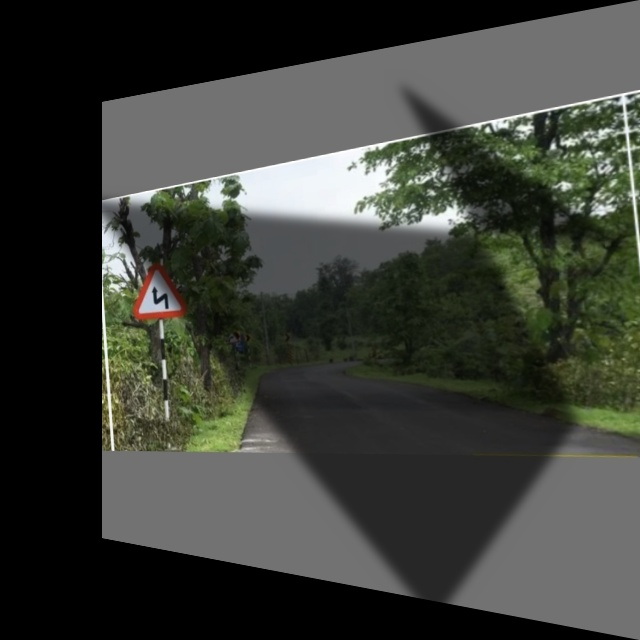Left_Reverse_Bend: (130, 257, 183, 320)
